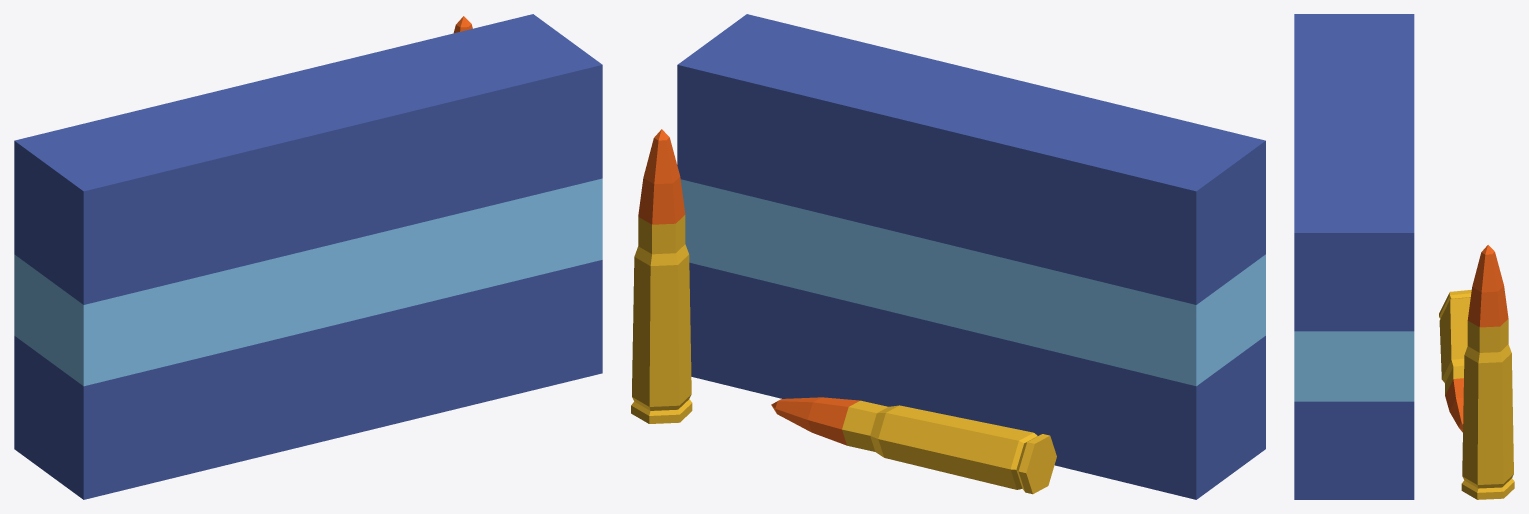
Rendered from 762x51_Sniper_Ammo.fbx.
The picture shows the model from 3 angles, left to right: view 1: azimuth 30°, elevation 25°; view 2: azimuth 150°, elevation 25°; view 3: azimuth 270°, elevation 25°; orthographic projection. The views are drawn at different scales.
Parts seen in each view (by area): view 1: 762x51_Sniper_Ammo; view 2: 762x51_Sniper_Ammo; view 3: 762x51_Sniper_Ammo.
Boxes of the visible parts, x1=… form: 762x51_Sniper_Ammo: x1=14, y1=14, x2=602, y2=499; 762x51_Sniper_Ammo: x1=631, y1=14, x2=1265, y2=499; 762x51_Sniper_Ammo: x1=1294, y1=14, x2=1514, y2=499.
Size of the model in its own units: 13.58 by 7.75 by 5.77.
